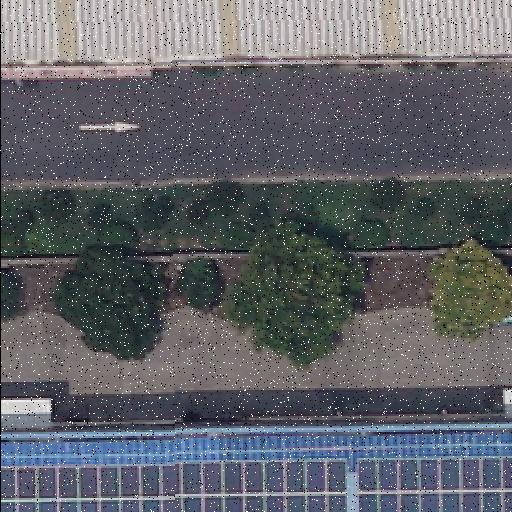solar-panel: (0, 455, 512, 512)
